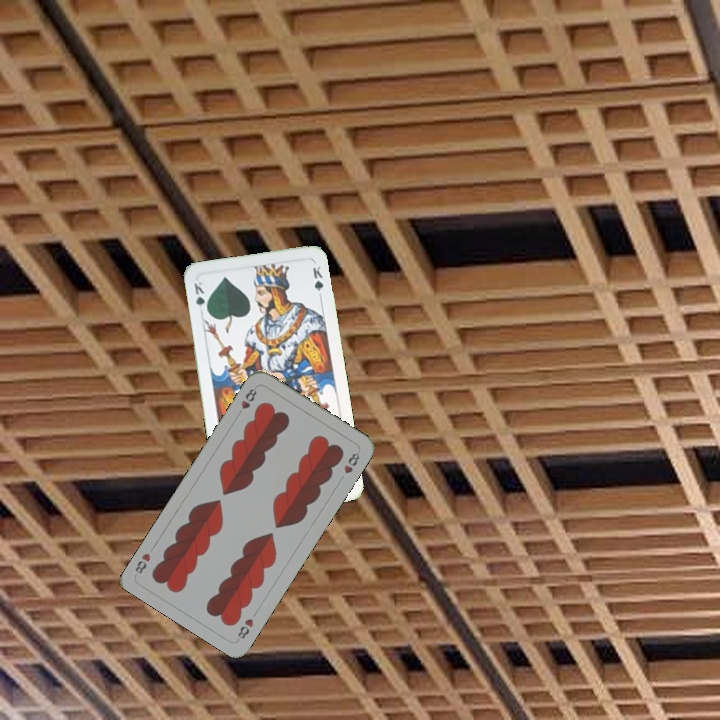GK: (190, 277, 210, 316)
H8: (233, 384, 260, 419), (233, 614, 256, 643)
